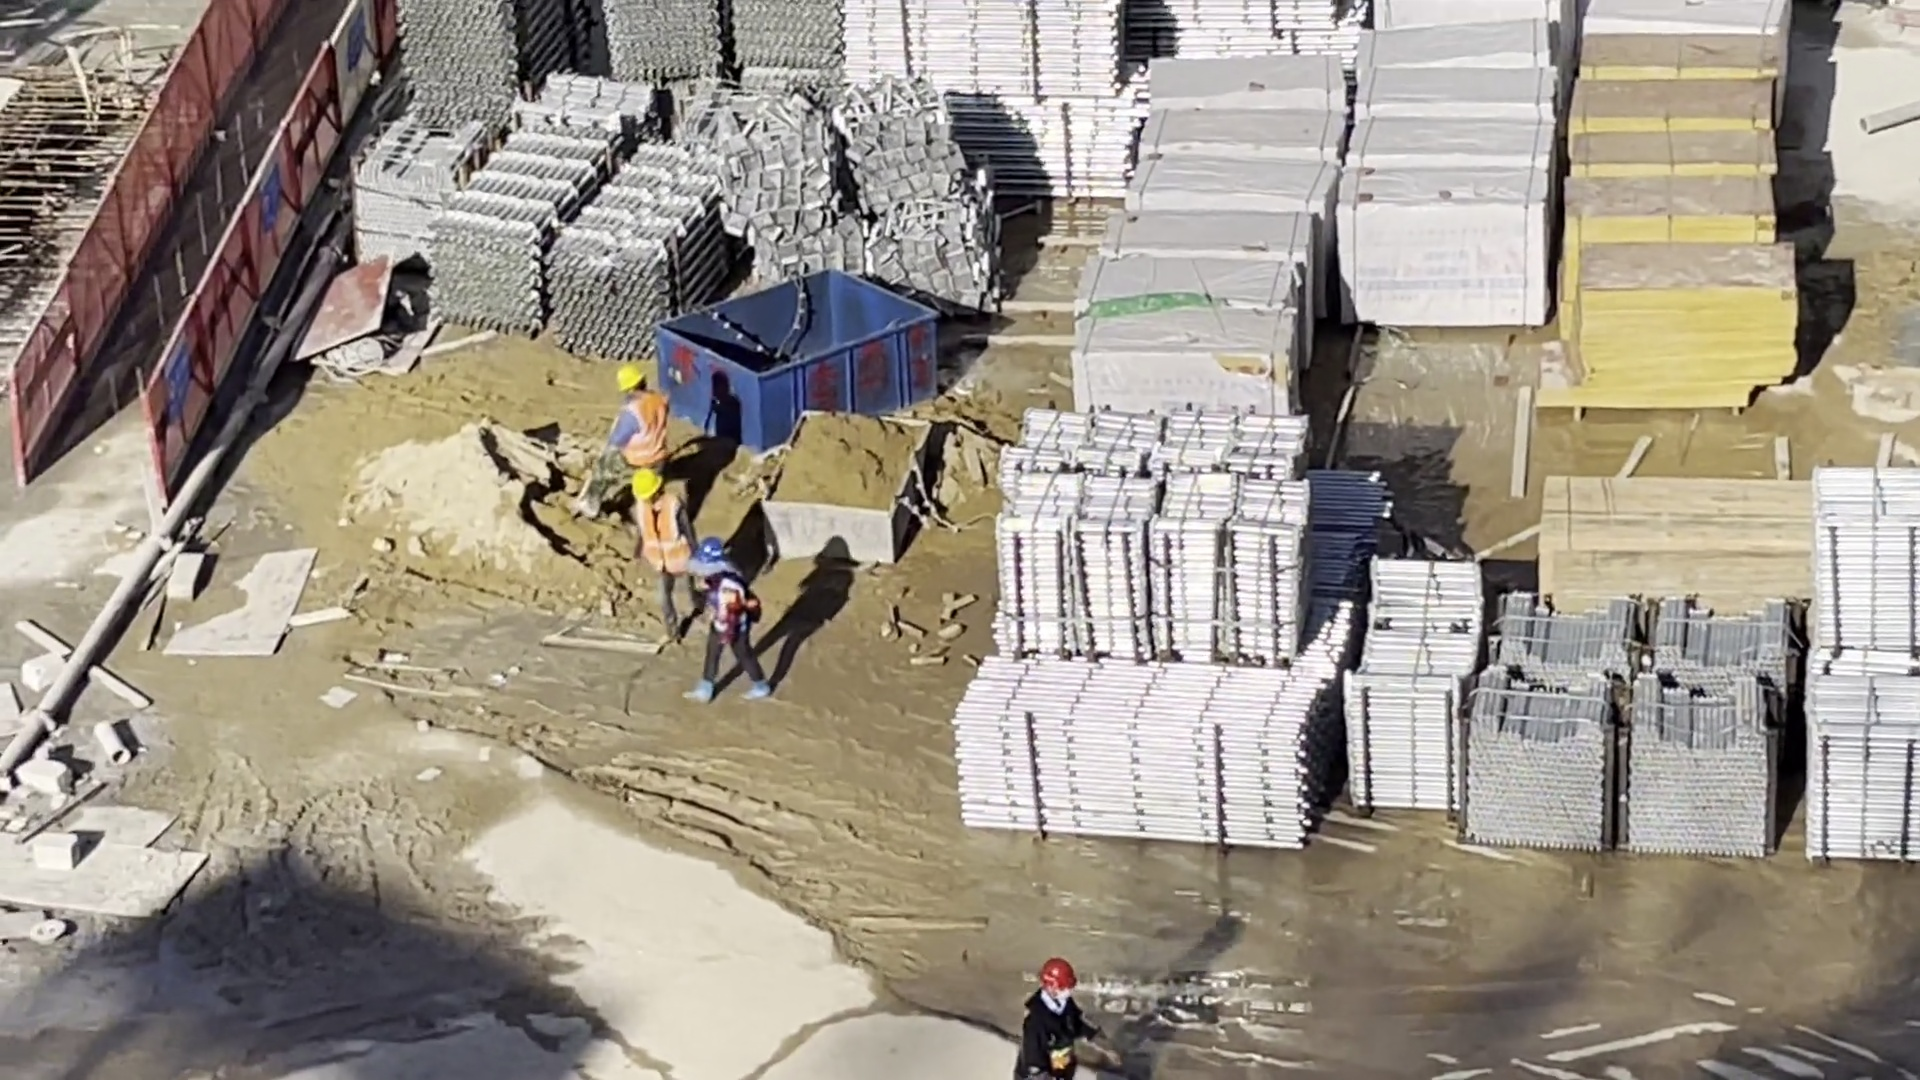board: (1562, 31, 1783, 412), (1535, 466, 1797, 599)
fence: (19, 6, 378, 507)
helmet: (1039, 961, 1079, 990), (633, 470, 662, 501), (696, 538, 729, 563), (616, 369, 645, 392)
hopper: (651, 265, 940, 454), (766, 408, 933, 564)
person: (689, 535, 770, 706), (629, 471, 701, 642), (615, 368, 667, 524), (1023, 960, 1085, 1080)
scaffold: (1462, 593, 1798, 856), (994, 411, 1321, 672), (959, 645, 1336, 843), (432, 127, 724, 356), (851, 3, 1133, 200), (1811, 466, 1920, 860), (1344, 561, 1477, 811), (397, 1, 605, 114), (602, 8, 847, 74), (1138, 1, 1370, 69)
slogan: (161, 346, 194, 422), (261, 160, 284, 227)
vest: (640, 501, 683, 577), (619, 393, 655, 464)
